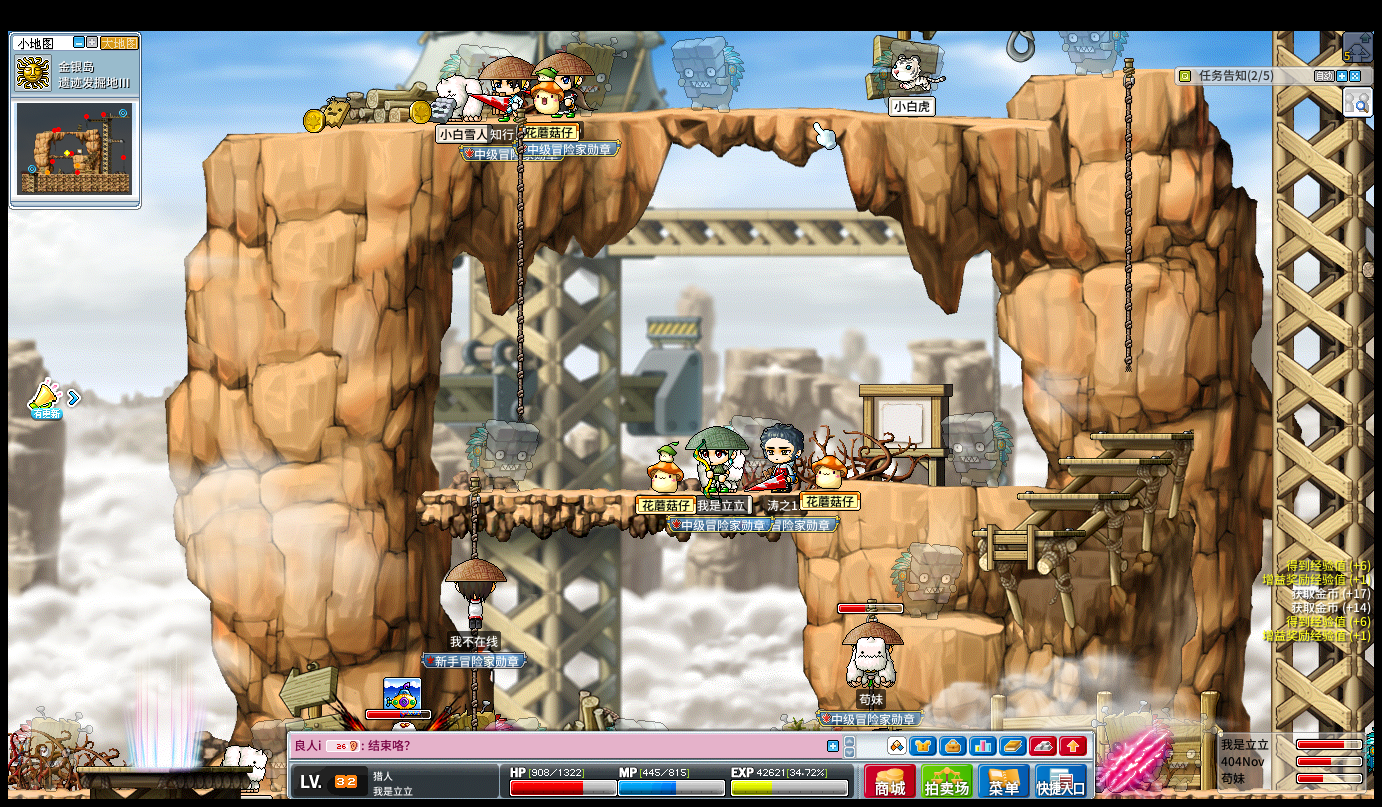floor: (234, 105, 1079, 136), (422, 488, 809, 499), (890, 613, 1004, 634), (858, 482, 1052, 493), (1023, 68, 1170, 81), (1090, 429, 1194, 441), (1052, 456, 1167, 465), (1016, 492, 1131, 500), (975, 528, 1086, 536)
monster: (8, 709, 90, 790), (1092, 705, 1169, 788), (888, 540, 964, 618), (671, 33, 746, 112), (467, 418, 541, 491), (942, 411, 1012, 486), (1364, 723, 1381, 798)
rope: (1120, 60, 1135, 373), (514, 108, 526, 425), (466, 480, 481, 558)
